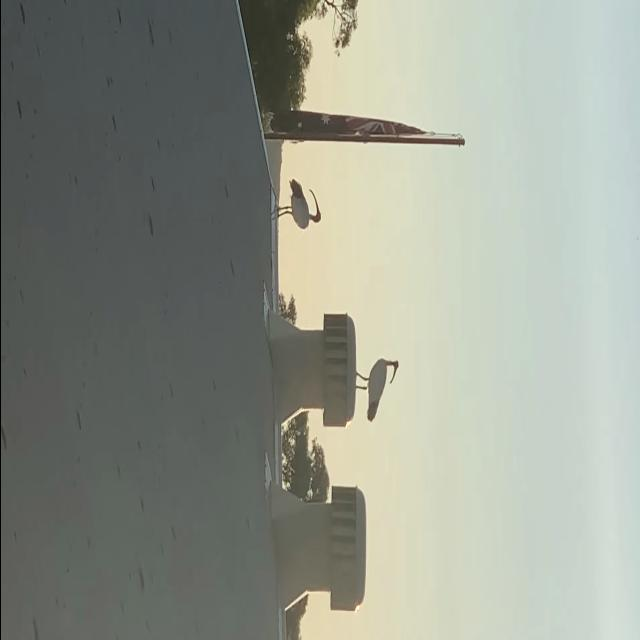Birds-Ibis: (351, 352, 403, 426), (266, 172, 324, 237)
